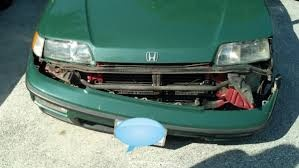Broken-glass: (214, 40, 272, 63)
Smashed: (26, 46, 282, 141)
